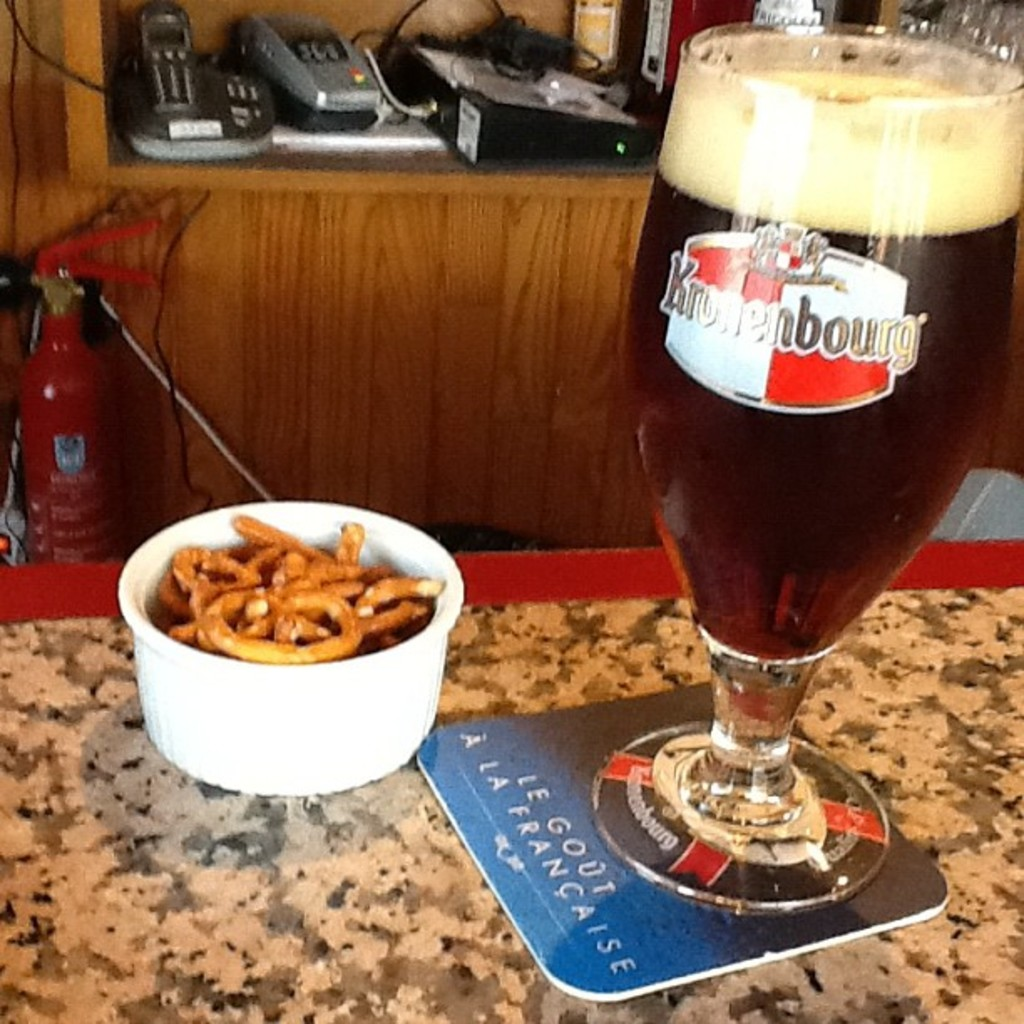French fries: (157, 525, 443, 664)
